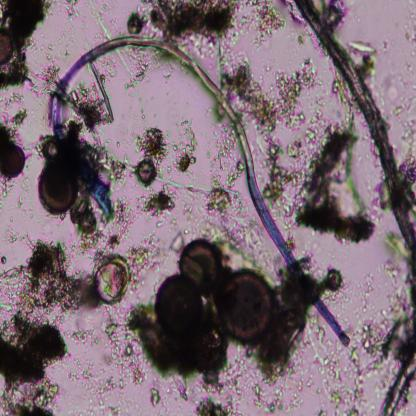Background material: (312, 292, 416, 416), (289, 114, 380, 252), (224, 56, 297, 206), (131, 295, 232, 391), (0, 235, 103, 320), (60, 303, 136, 416), (192, 350, 298, 416), (254, 267, 312, 370), (148, 0, 244, 58), (0, 308, 67, 381), (0, 0, 46, 90), (278, 50, 327, 133), (142, 170, 204, 227), (213, 213, 273, 270), (66, 86, 107, 156), (121, 230, 161, 291), (0, 377, 62, 416), (382, 72, 416, 140), (96, 197, 138, 251), (204, 106, 238, 169), (376, 226, 409, 290), (240, 0, 288, 43), (201, 170, 240, 222), (344, 29, 380, 78), (169, 115, 199, 172), (95, 147, 132, 191), (132, 124, 170, 165), (0, 93, 29, 144), (121, 46, 150, 97), (72, 198, 98, 252), (84, 0, 115, 39), (22, 60, 54, 93), (397, 144, 416, 194), (2, 222, 35, 249), (357, 269, 375, 312), (168, 372, 192, 403), (18, 139, 44, 162), (405, 6, 416, 57), (52, 25, 77, 47), (145, 378, 162, 408), (61, 0, 82, 21), (127, 97, 146, 120), (15, 192, 32, 216), (54, 46, 74, 63), (170, 232, 186, 253), (0, 176, 14, 199), (231, 161, 244, 182), (20, 174, 31, 191), (161, 72, 175, 84), (124, 156, 131, 169), (0, 252, 7, 265), (48, 43, 54, 54), (306, 377, 312, 387), (46, 54, 54, 61), (116, 140, 121, 150), (30, 213, 34, 218)
Cellulose filter fibre: (290, 0, 416, 254)
Diatom: (218, 265, 275, 344), (156, 271, 207, 340), (181, 239, 227, 297), (38, 160, 80, 220), (86, 62, 116, 123), (93, 264, 128, 304), (1, 141, 25, 178), (135, 157, 159, 186), (125, 11, 144, 38), (0, 32, 15, 64), (325, 268, 344, 292), (44, 138, 61, 159)
Microfibre: (46, 37, 352, 348)
